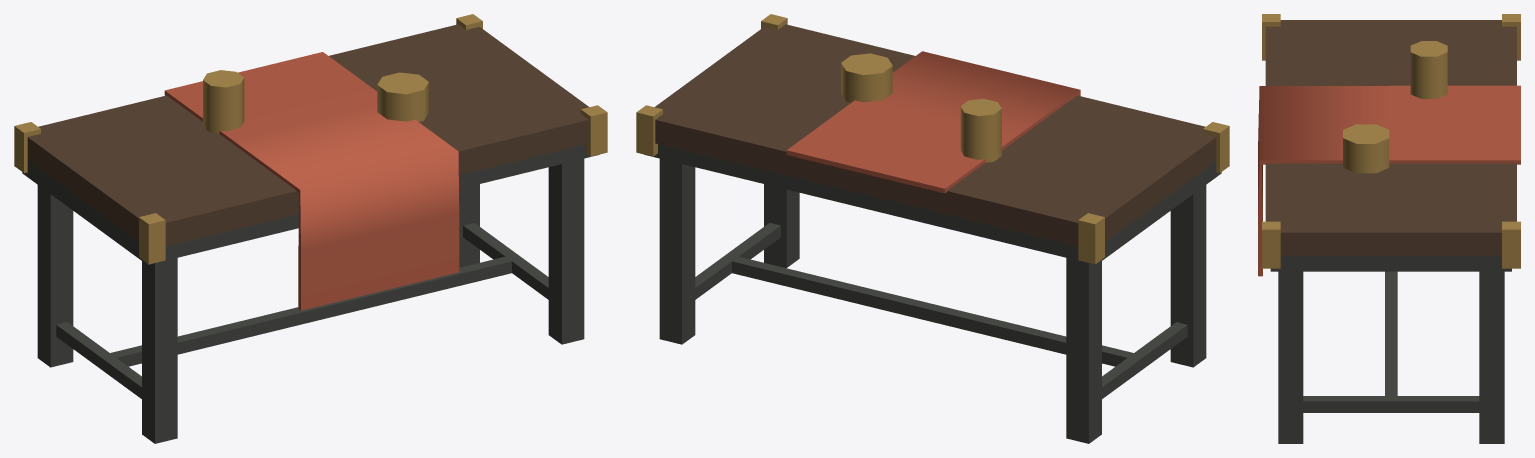
Rendered from stall_table.glb.
3 views of the same model, side by side, from view 1: azimuth 30°, elevation 25°; view 2: azimuth 150°, elevation 25°; view 3: azimuth 270°, elevation 25° (orthographic). The views are drawn at different scales.
Visible parts, largest first — view 1: stall_table; view 2: stall_table; view 3: stall_table.
Part boxes in pixels (x1,y1,x2,y2): stall_table: (14, 14, 607, 443); stall_table: (636, 14, 1229, 443); stall_table: (1258, 14, 1520, 443).
Size of the model in its own units: 2.03 by 1.15 by 1.04.
